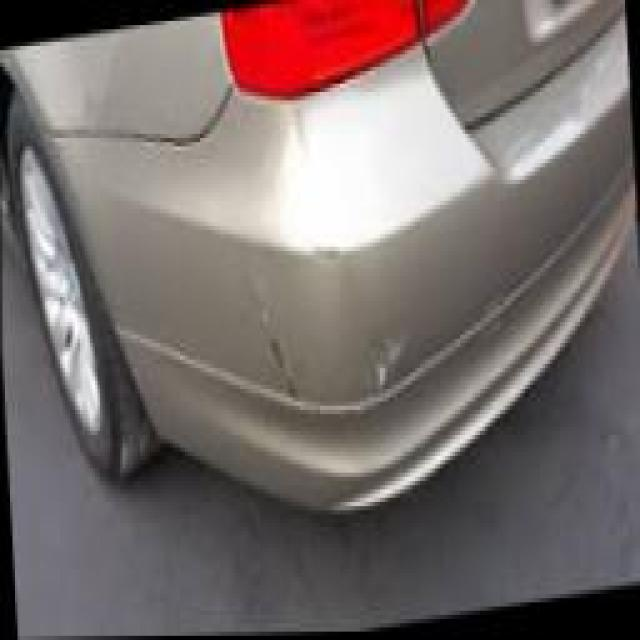Bumper: (218, 151, 514, 458)
